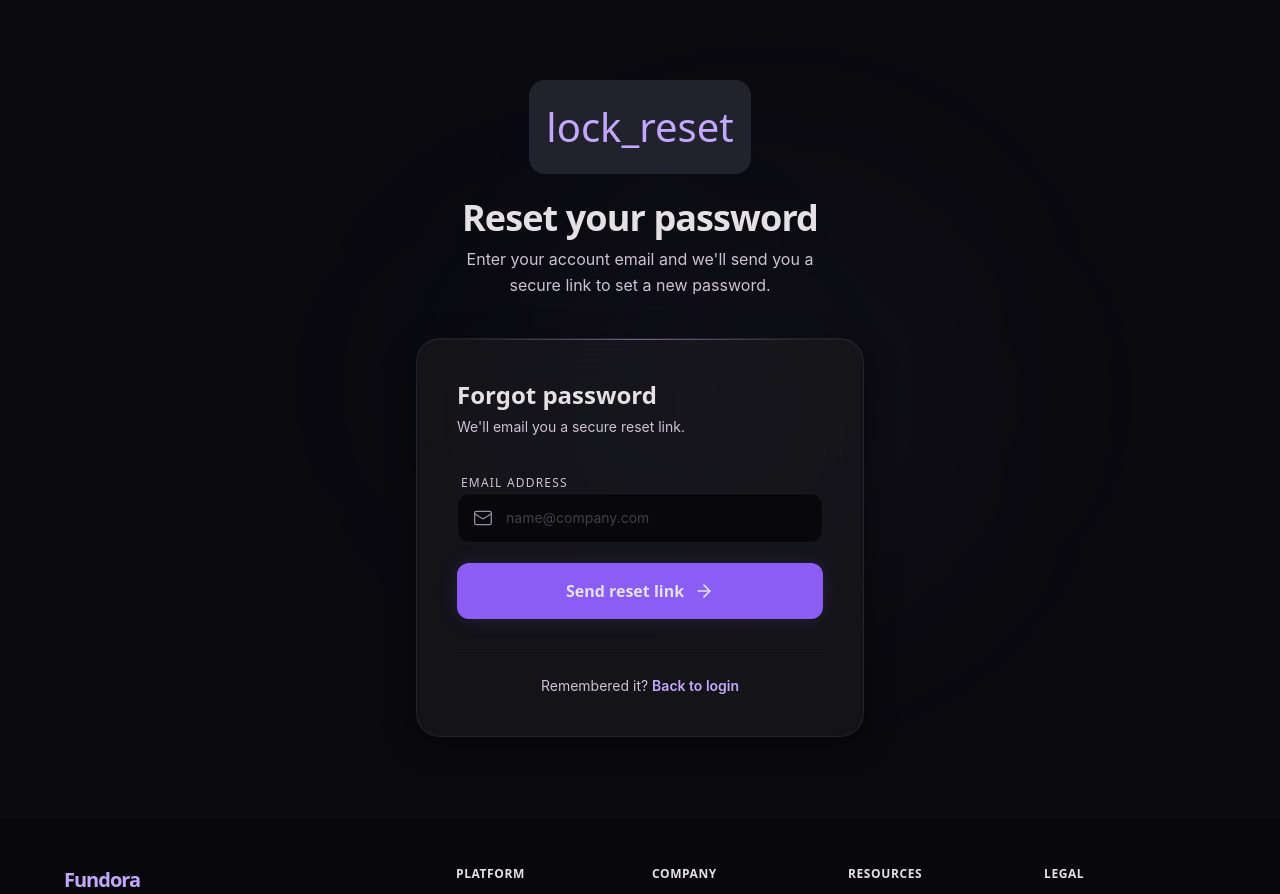
Test: ForgotPasswordPage › shows an error when the email lookup fails
Type "nobody@example.com" into the field labelled "Email Address".
click(640, 518); type("nobody@example.com")  # box [457,493,823,543]
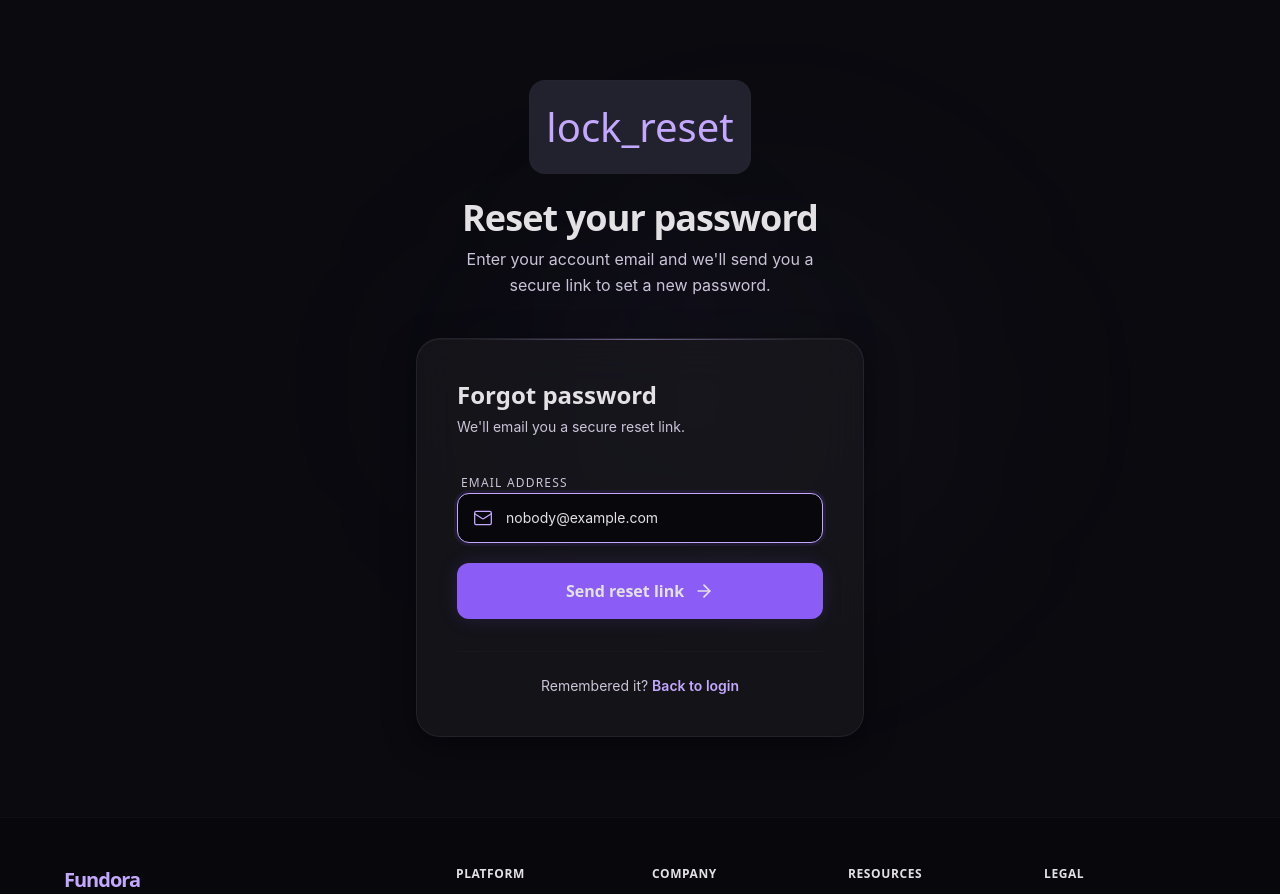
Click the button "Send reset link".
click(640, 591)  # box [457,563,823,619]
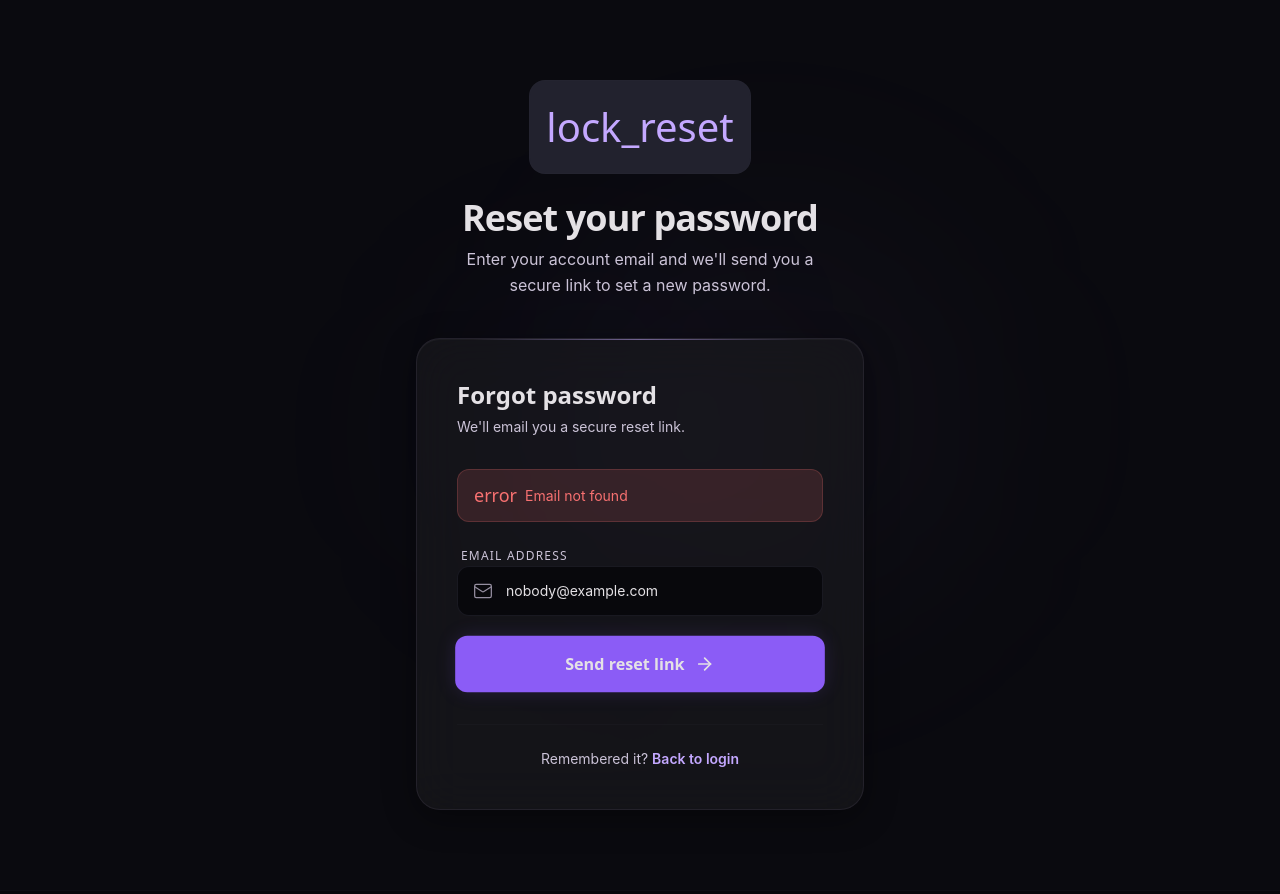
Now the text "Email not found" is shown, box [525,486,628,506]
